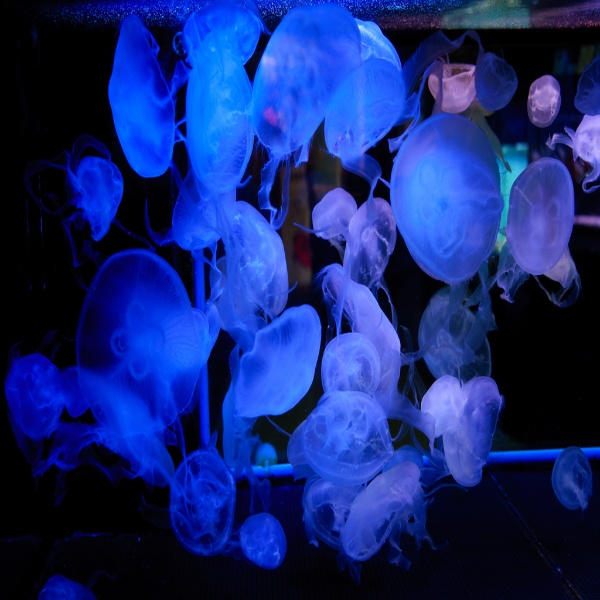Jellyfish: (5, 0, 599, 599)
